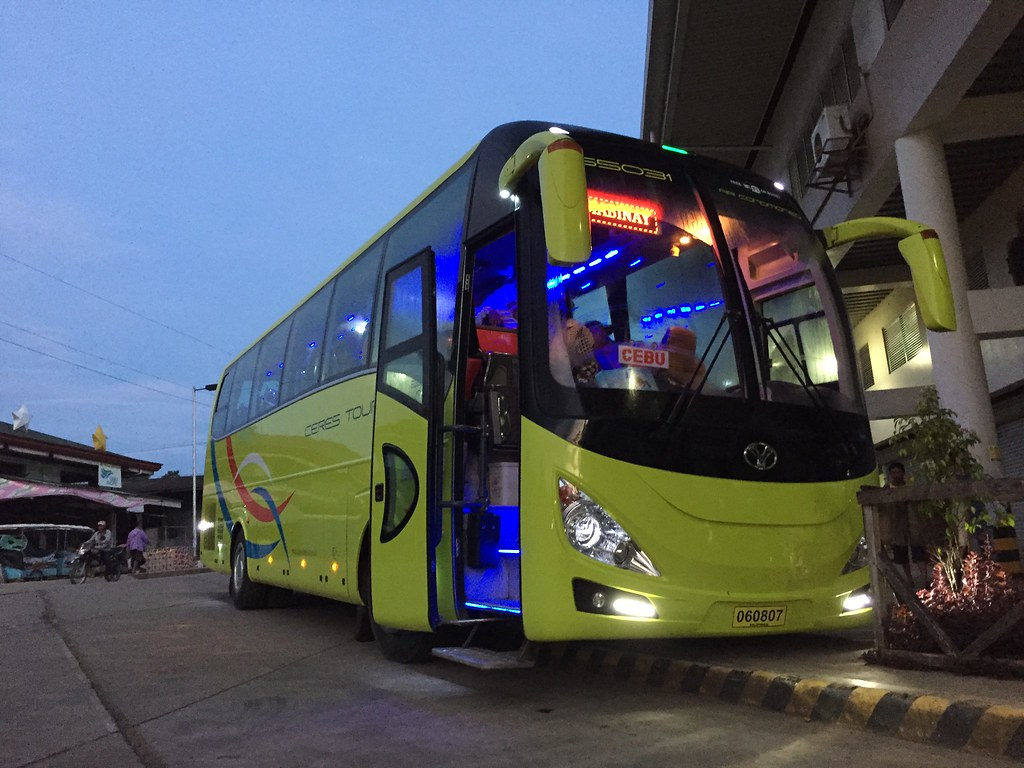bus: (212, 122, 950, 649)
